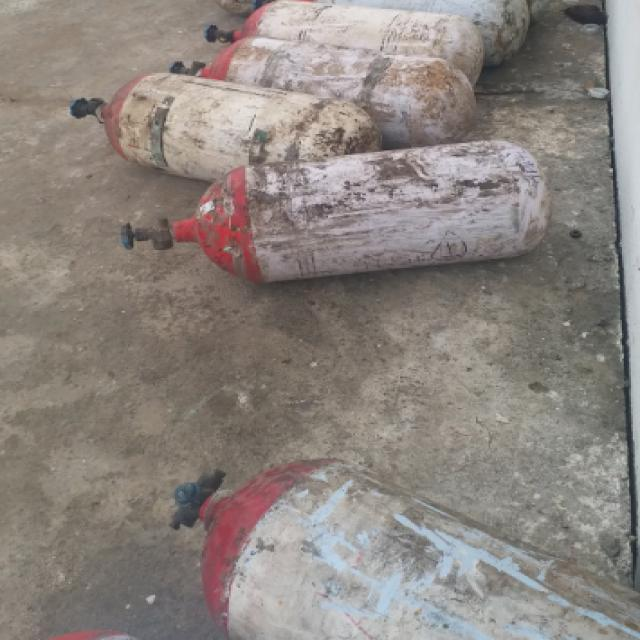cylinder: (165, 459, 637, 637), (122, 138, 553, 286), (71, 69, 381, 180)
